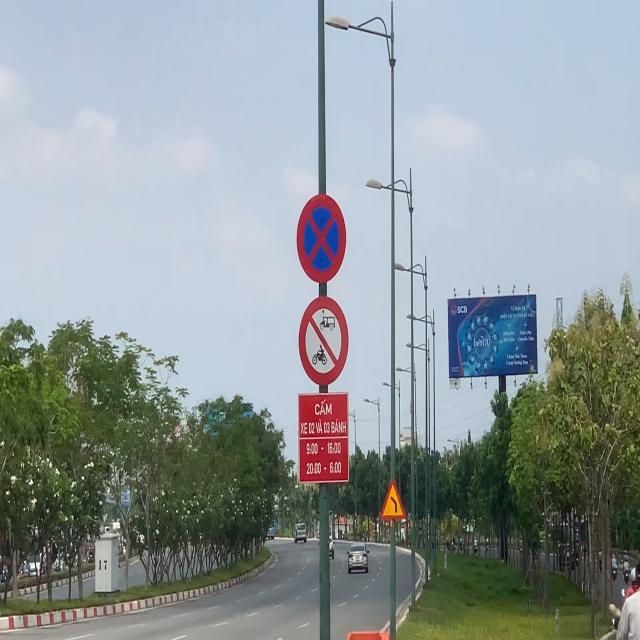Cam con lai: (297, 296, 351, 388)
Cam dung va do: (296, 194, 346, 284)
Nguy hiem: (380, 478, 406, 519)
